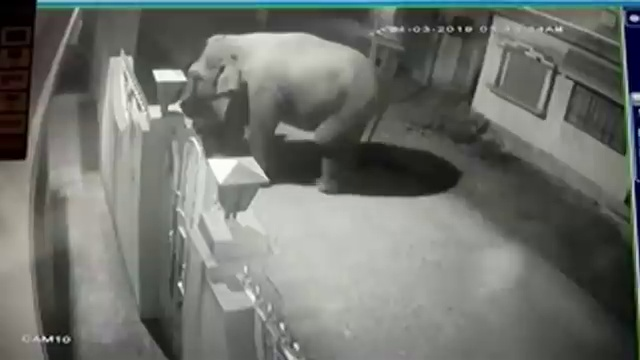Elephant: (175, 32, 385, 195)
